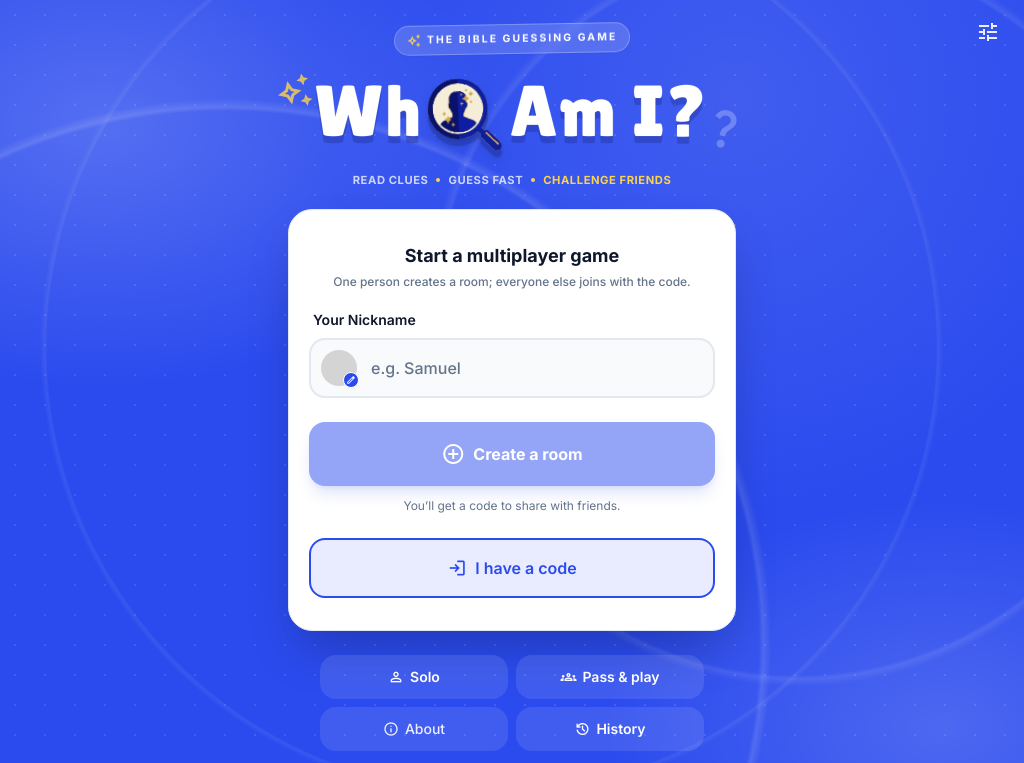
Test: Home › opens the device history sheet with an empty state
Click the button "History" at x=610, y=729, box [516,707,704,751]
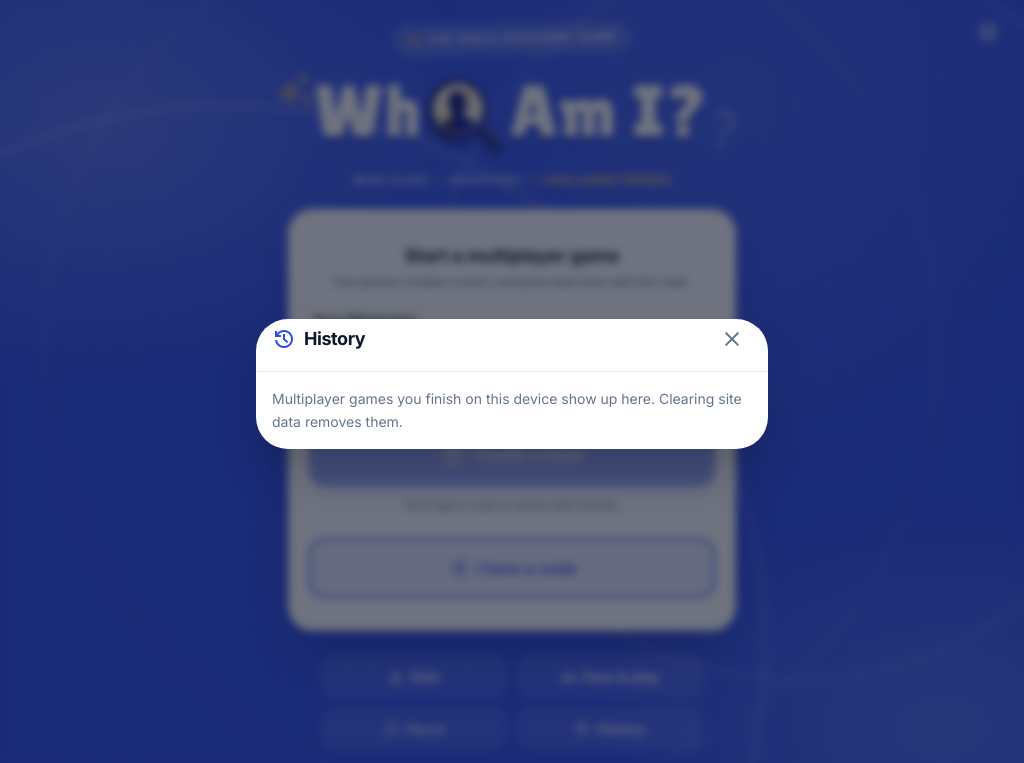
Now the dialog "History" is shown, box [256,319,768,449]
Now the text "Multiplayer games you finish on this device show up here" is shown, box [272,390,742,430]
